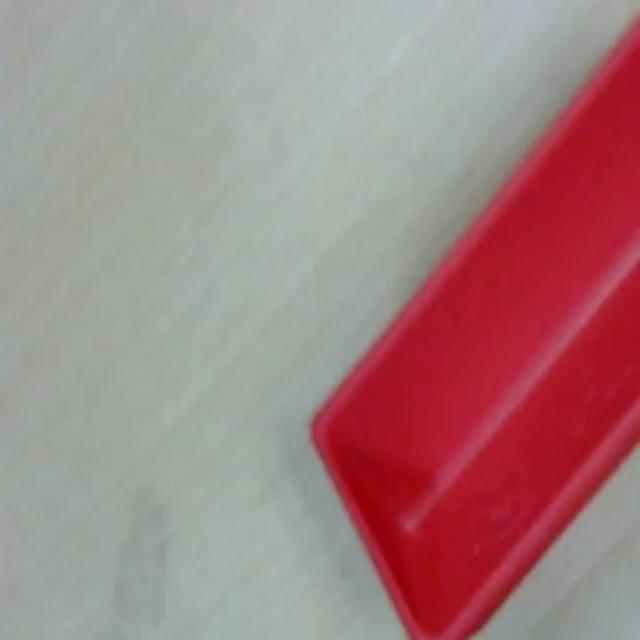red_block: (308, 11, 638, 636)
